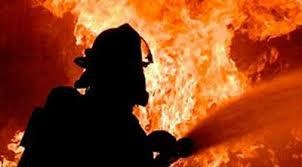fire: (123, 0, 298, 157), (0, 127, 27, 167)
